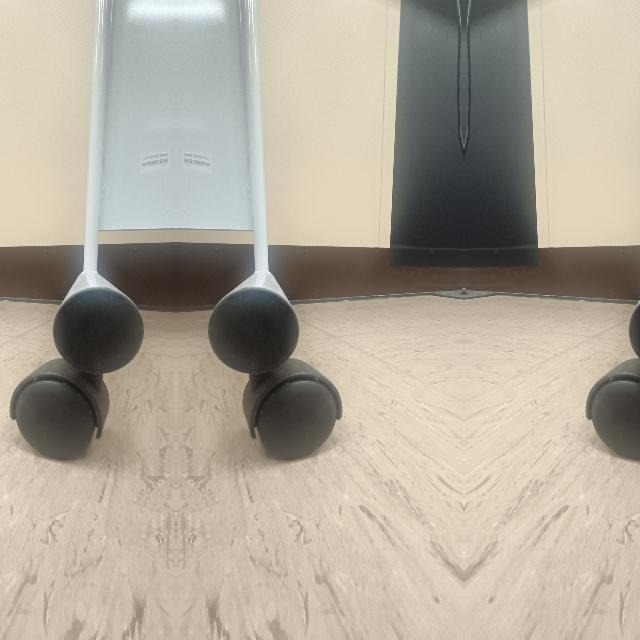obstacle: (206, 159, 342, 461), (8, 159, 144, 461), (585, 159, 640, 461)
